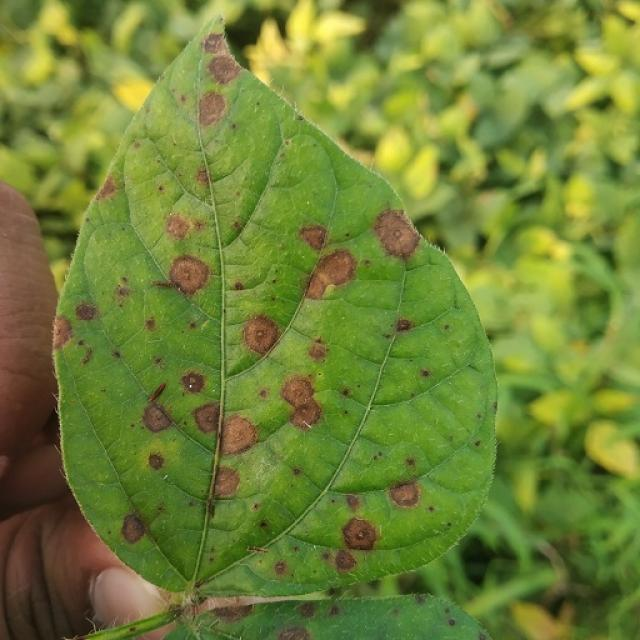Anthracnose: (304, 248, 358, 300), (373, 207, 421, 260), (229, 314, 280, 360), (168, 254, 212, 297), (219, 414, 259, 456), (341, 516, 380, 552), (280, 375, 317, 410), (206, 54, 241, 86), (198, 91, 228, 128), (141, 402, 173, 433), (388, 480, 421, 508), (212, 466, 240, 499), (193, 403, 221, 435), (120, 513, 147, 545), (213, 603, 252, 625), (51, 315, 75, 350), (165, 213, 194, 240), (298, 224, 328, 250), (95, 172, 119, 202), (179, 370, 207, 395), (202, 32, 231, 55), (277, 625, 310, 640), (74, 302, 97, 322), (307, 340, 328, 361), (298, 602, 318, 619), (147, 453, 165, 471), (345, 494, 362, 511), (115, 285, 132, 301), (195, 169, 210, 186), (395, 318, 413, 332), (273, 560, 288, 576), (81, 346, 93, 365), (327, 603, 341, 617), (144, 318, 157, 331), (414, 593, 428, 605), (233, 281, 245, 291), (420, 368, 431, 378), (340, 387, 351, 397), (258, 388, 269, 398), (259, 520, 269, 529), (448, 617, 456, 627)
Blackgram: (54, 20, 496, 599)
